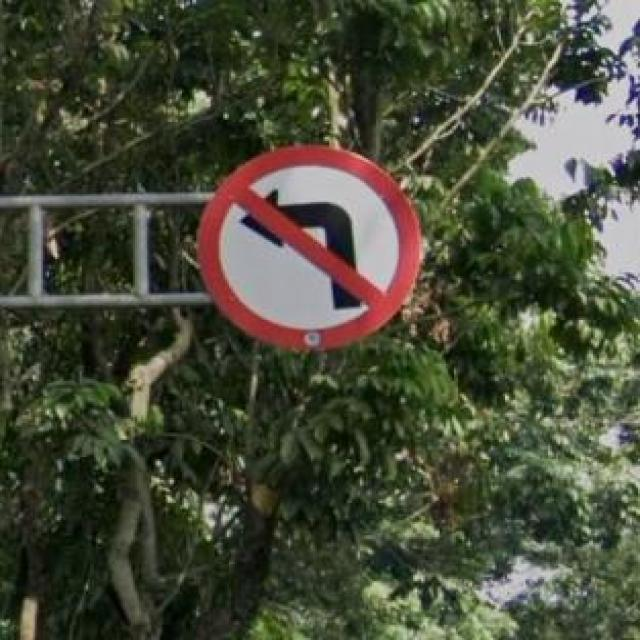traffic sign: (205, 151, 420, 347)
